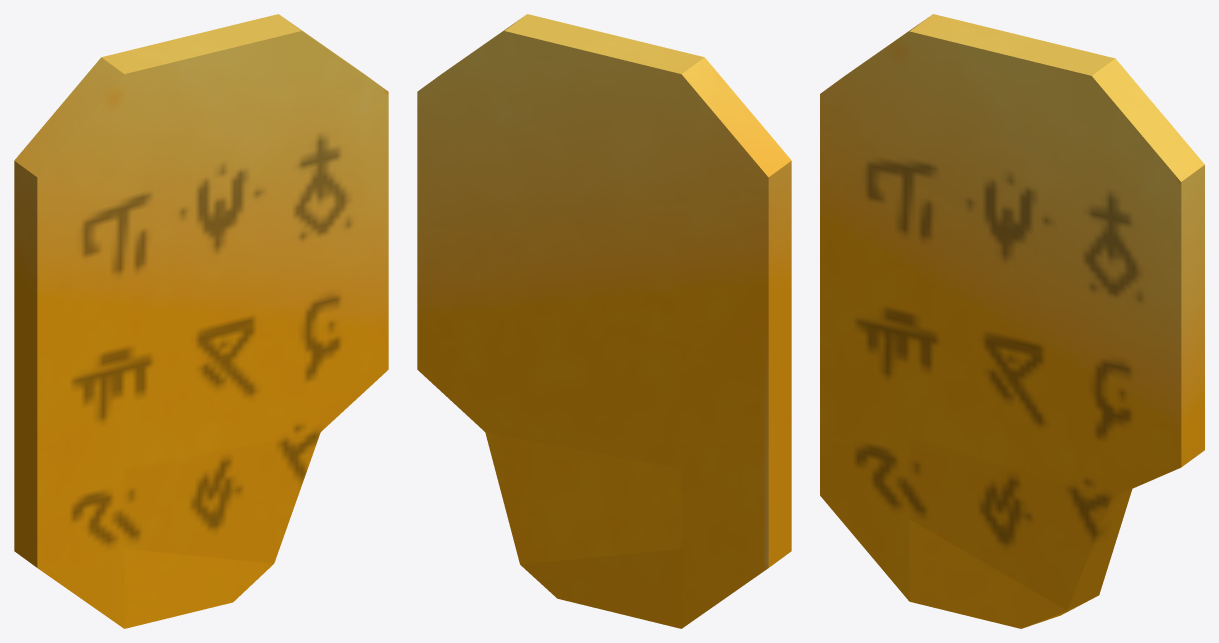
Rendered from treasure.fbx.
The picture shows the model from 3 angles, left to right: view 1: azimuth 30°, elevation 25°; view 2: azimuth 150°, elevation 25°; view 3: azimuth 330°, elevation 25°; orthographic projection. The views are drawn at different scales.
Visible parts, largest first — view 1: Cube; view 2: Cube; view 3: Cube.
Boxes of the visible parts, x1,y1,x2,y2 form: Cube: (14,14,388,628); Cube: (417,14,791,628); Cube: (820,14,1204,628).
Bounding box in the file's own units: 133 × 200 × 16.4.
1 material, 1 textured.
